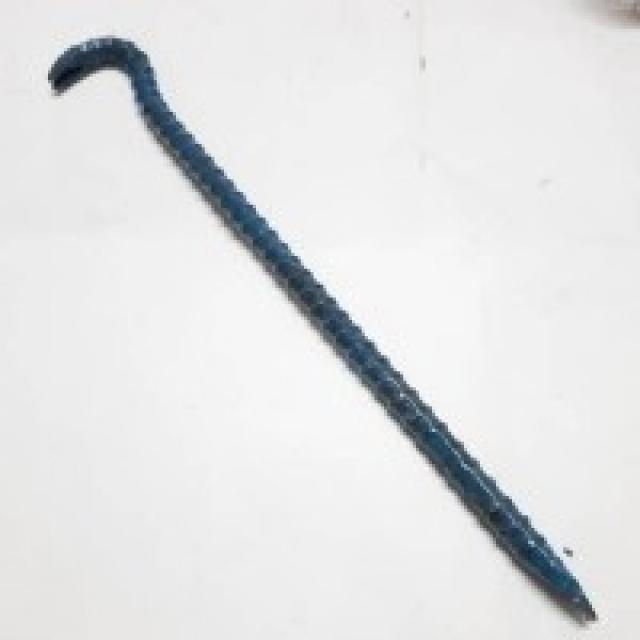Linggis: (51, 36, 601, 621)
